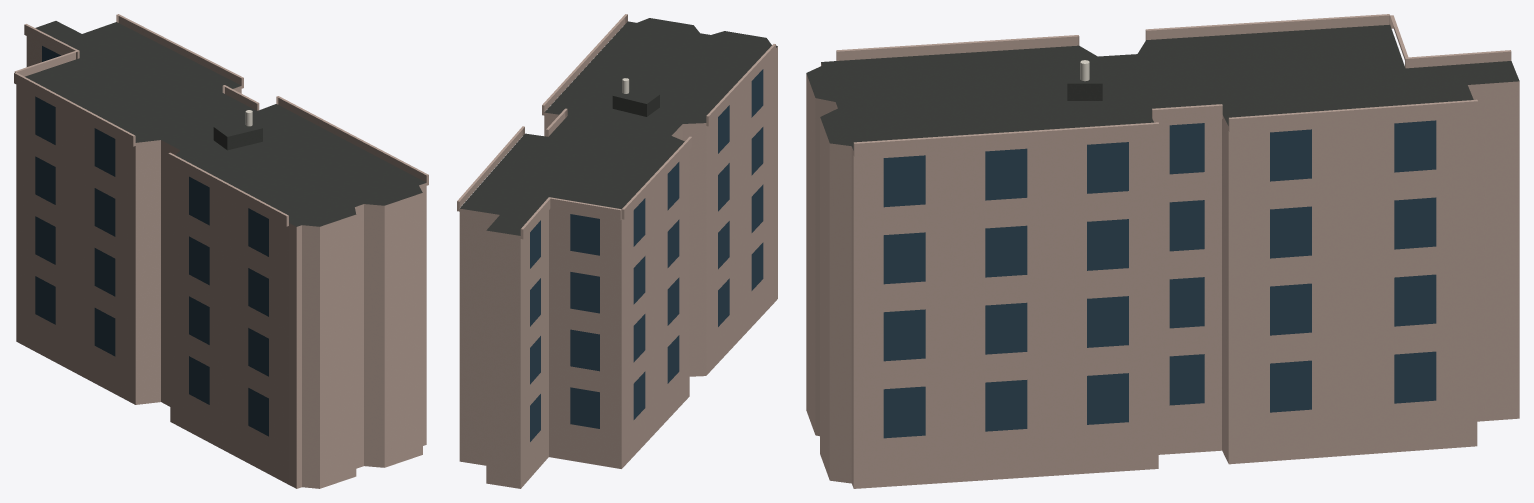
3 renders of one model, left to right at view 1: azimuth 30°, elevation 25°; view 2: azimuth 150°, elevation 25°; view 3: azimuth 270°, elevation 25°, orthographic. The views are drawn at different scales.
Visible parts, largest first — view 1: Footprint 0 / surface 2, Footprint 0 / surface 1, Inset glazing, Facade bay volumes, Inferred rooftop service enclosure / surface 5, Inferred rooftop service enclosure / surface 3; view 2: Footprint 0 / surface 2, Footprint 0 / surface 1, Inset glazing, Facade bay volumes, Inferred rooftop service enclosure / surface 6, Inferred rooftop service enclosure / surface 3; view 3: Footprint 0 / surface 2, Inset glazing, Footprint 0 / surface 1, Facade bay volumes.
Part boxes in pixels (x1,y1,x2,y2): Footprint 0 / surface 2: [16, 36, 426, 488]; Footprint 0 / surface 1: [25, 21, 426, 226]; Inset glazing: [35, 46, 268, 436]; Facade bay volumes: [14, 14, 428, 226]; Inferred rooftop service enclosure / surface 5: [227, 128, 262, 150]; Inferred rooftop service enclosure / surface 3: [214, 119, 262, 136]; Footprint 0 / surface 2: [459, 46, 777, 488]; Footprint 0 / surface 1: [460, 18, 777, 235]; Inset glazing: [530, 69, 763, 441]; Facade bay volumes: [457, 14, 775, 239]; Inferred rooftop service enclosure / surface 6: [612, 96, 646, 116]; Inferred rooftop service enclosure / surface 3: [613, 87, 659, 103]; Footprint 0 / surface 2: [806, 63, 1519, 488]; Inset glazing: [883, 120, 1436, 438]; Footprint 0 / surface 1: [806, 24, 1519, 150]; Facade bay volumes: [836, 14, 1511, 156].
Size of the model in its own units: 10.46 by 13.98 by 24.3.
